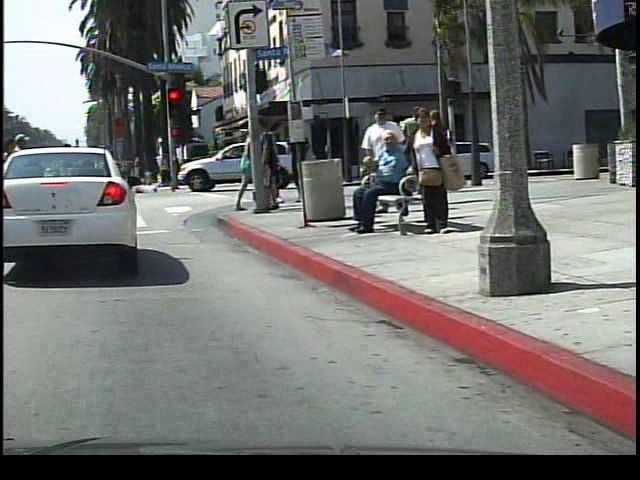person: (346, 133, 415, 240), (400, 105, 452, 236), (149, 148, 174, 198), (244, 123, 245, 213)
